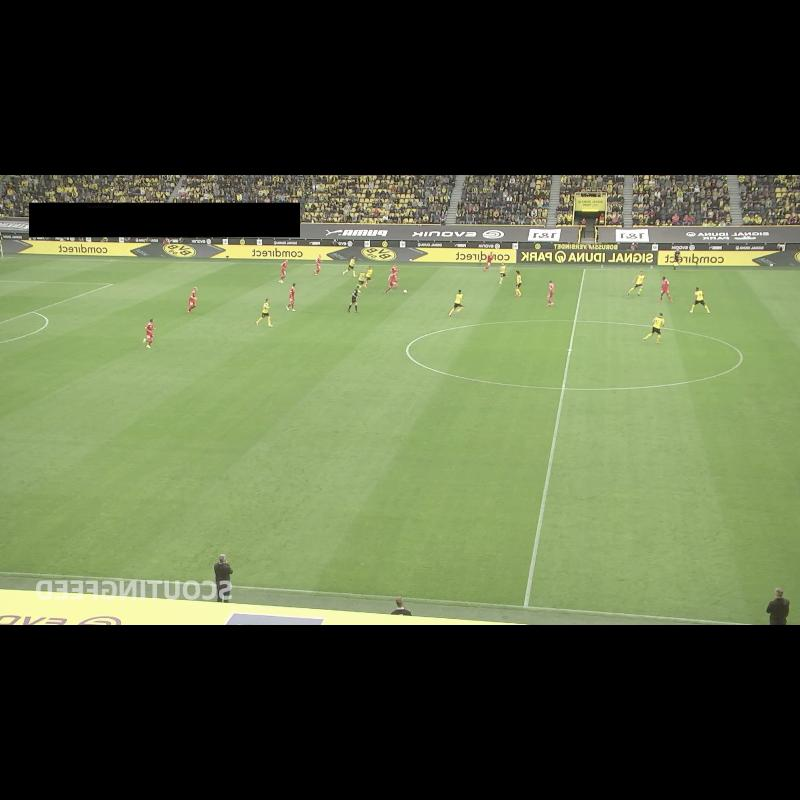cross_recipient_zone: (0, 280, 112, 323)
crossing_player_zone: (0, 257, 262, 287)
pitch: (0, 257, 800, 625)
